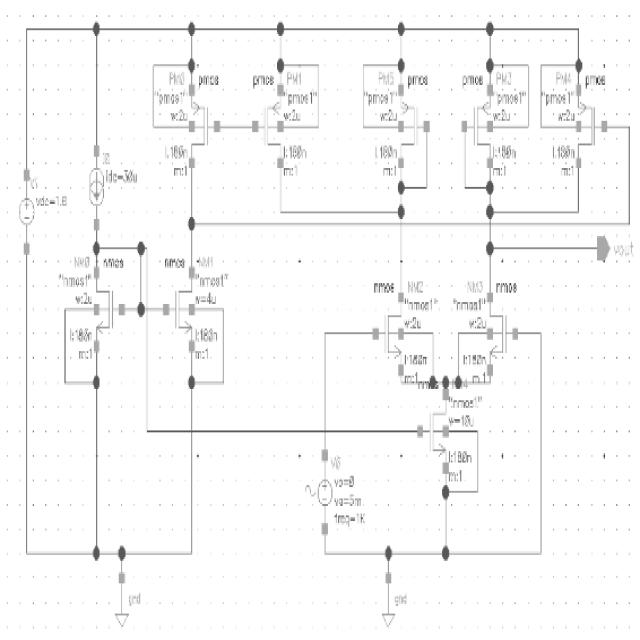gnd: (378, 573, 398, 629), (112, 572, 130, 626)
idc: (82, 146, 105, 231)
nmos: (90, 269, 129, 361), (370, 293, 406, 379), (415, 388, 450, 472), (163, 266, 195, 356), (485, 293, 519, 374)
pmos: (187, 85, 226, 168), (396, 85, 432, 168), (461, 82, 493, 172), (574, 85, 608, 169), (253, 84, 284, 170)
vdc: (18, 166, 36, 258)
vsin: (302, 451, 334, 542)
